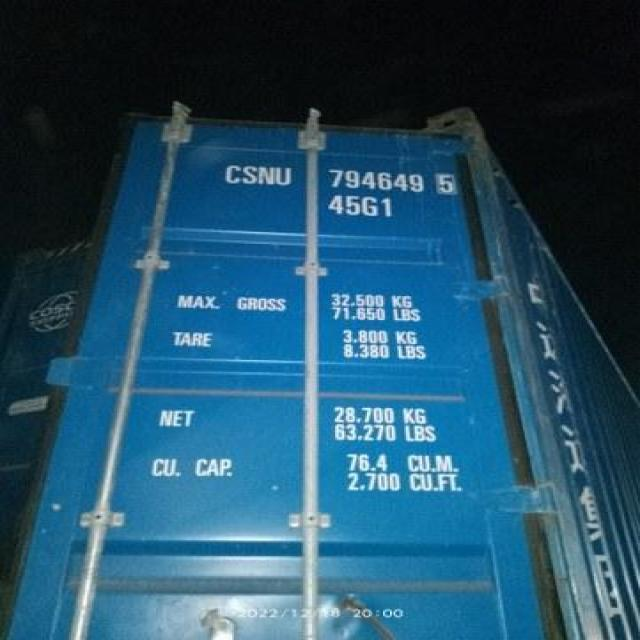ISO: (330, 196, 394, 220)
container_number: (220, 166, 452, 191)
